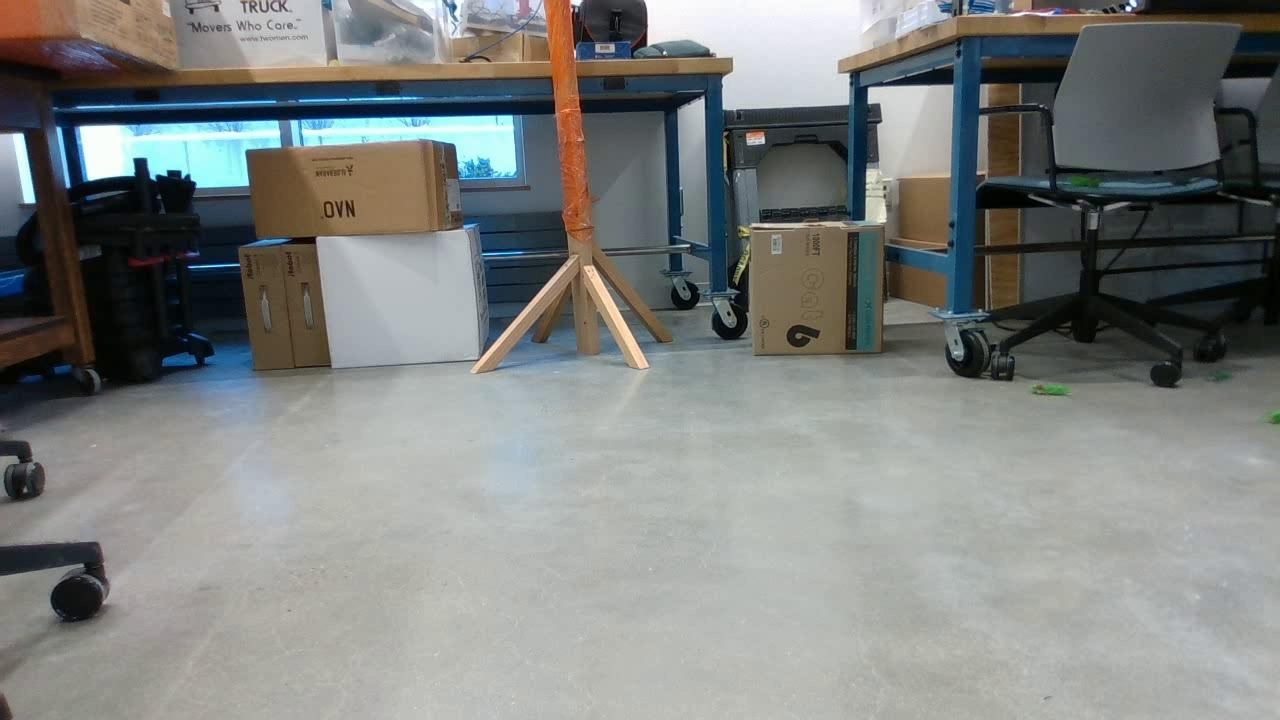grasshopper: (1023, 380, 1070, 400), (1061, 173, 1105, 189), (1267, 407, 1280, 429)
